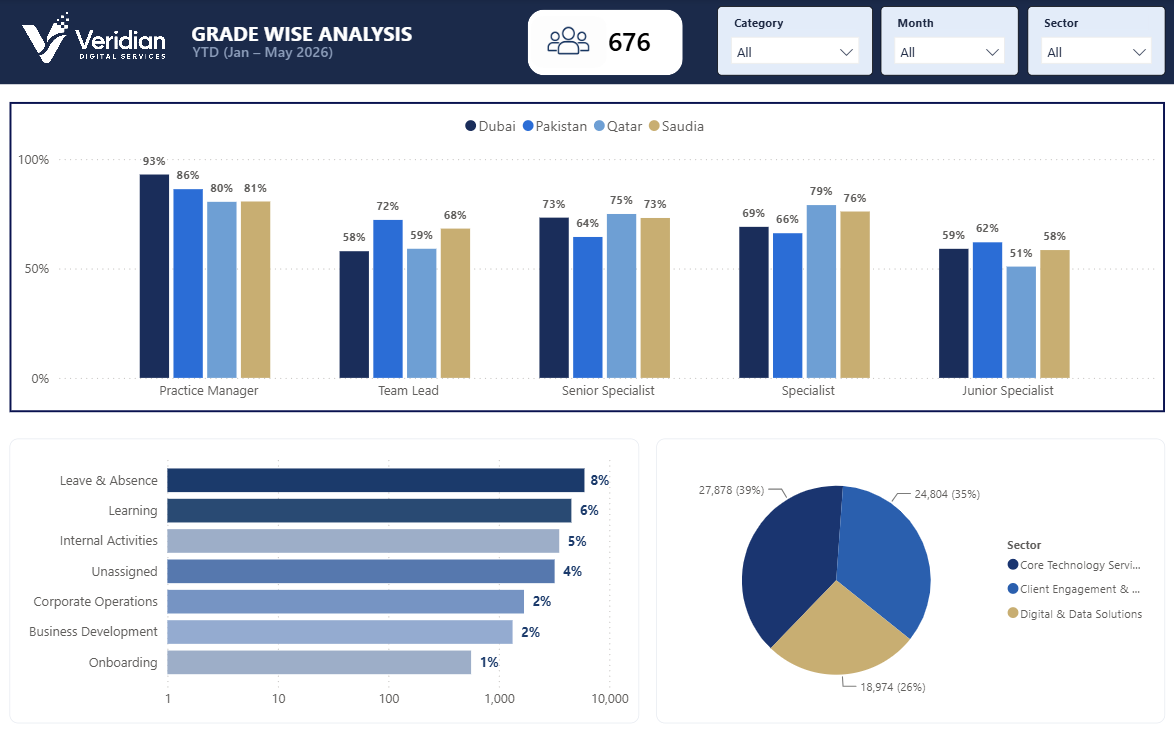

This screenshot's page, from the dashboard's own definition file:
{"tool":"powerbi","page":{"name":"Grade Wise","canvas":[1100,700],"ordinal":4},"visuals":[{"type":"group","id":"g1","title":"Group 2","box":[-180,0,1280,80],"z":0},{"type":"shape","box":[-180,0,1280,80],"z":0,"group":"g1"},{"type":"textbox","box":[179.3,15.4,352,48],"z":1000},{"type":"cardVisual","fields":{"Data":["_Measures.YTD Label"]},"box":[173.3,17.4,192,64],"z":2000},{"type":"clusteredColumnChart","fields":{"Category":["Dim_Employee.Employee Grade"],"Y":["_Measures.Utilization %"],"Series":["Dim_Location.Reporting Location Group"]},"box":[16,96,1072,288],"z":4000},{"type":"slicer","fields":{"Values":["Dim_Employee.Sector"]},"box":[960,7,128,64],"z":5000},{"type":"slicer","title":"Location","fields":{"Values":["Dim_Date.Month Year"]},"box":[824,7,128,64],"z":6000},{"type":"slicer","fields":{"Values":["Fact_Timesheet.Employee Category 2"]},"box":[672,7,144,64],"z":7000},{"type":"clusteredBarChart","title":"NON-BILLABLE BREAKDOWN","fields":{"Category":["Dim_Activity.Activity Category"],"Y":["_Measures.Total Days"]},"box":[16,408,584,264],"z":8000},{"type":"shape","box":[496,10,144,61],"z":9000},{"type":"pieChart","title":"LOCATION WISE ANALYSIS","fields":{"Y":["_Measures.Total Days"],"Category":["Fact_Timesheet.Sector"]},"box":[616,408,472,264],"z":10000},{"type":"image","box":[499,17,70,48],"z":11000},{"type":"PBI_CV_7B952816_A48F_49B4_9E13_15E3BB2C0337","title":"Total Employees","fields":{"Values":["_Measures.Total Employees"]},"box":[515,2,152,64],"z":12000},{"type":"image","box":[21,4,144,64],"z":13000}]}

Visuals, with their boxes in screenshot pixels (x1, y1, x2, y2), scaled from the page's 1100x700 canvas onto the 1174x741 screenshot:
"Group 2" group: <box>0,0,1173,85</box>
shape: <box>0,0,1173,85</box>
textbox: <box>191,16,567,67</box>
cardVisual - _Measures.YTD Label: <box>185,18,390,86</box>
clusteredColumnChart - Dim_Employee.Employee Grade x _Measures.Utilization %: <box>17,102,1161,406</box>
slicer - Dim_Employee.Sector: <box>1025,7,1161,75</box>
"Location" slicer: <box>879,7,1016,75</box>
slicer - Fact_Timesheet.Employee Category 2: <box>717,7,871,75</box>
"NON-BILLABLE BREAKDOWN" clusteredBarChart: <box>17,432,640,711</box>
shape: <box>529,11,683,75</box>
"LOCATION WISE ANALYSIS" pieChart: <box>657,432,1161,711</box>
image: <box>533,18,607,69</box>
"Total Employees" PBI_CV_7B952816_A48F_49B4_9E13_15E3BB2C0337: <box>550,2,712,70</box>
image: <box>22,4,176,72</box>
